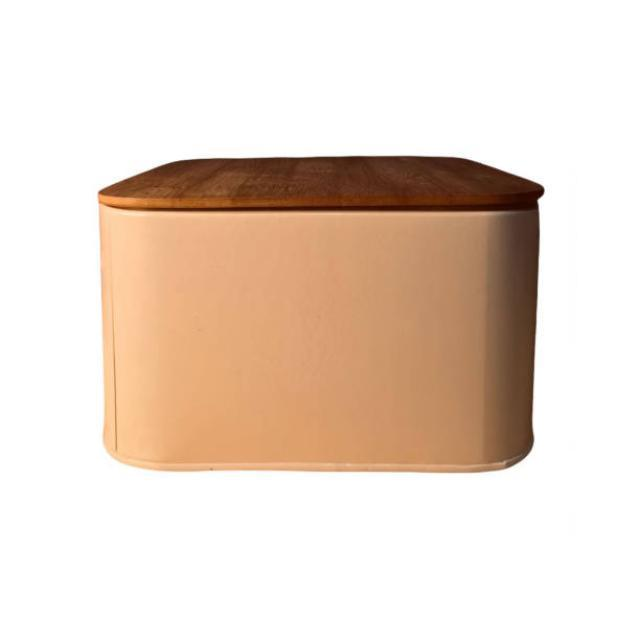table: (97, 154, 544, 472)
